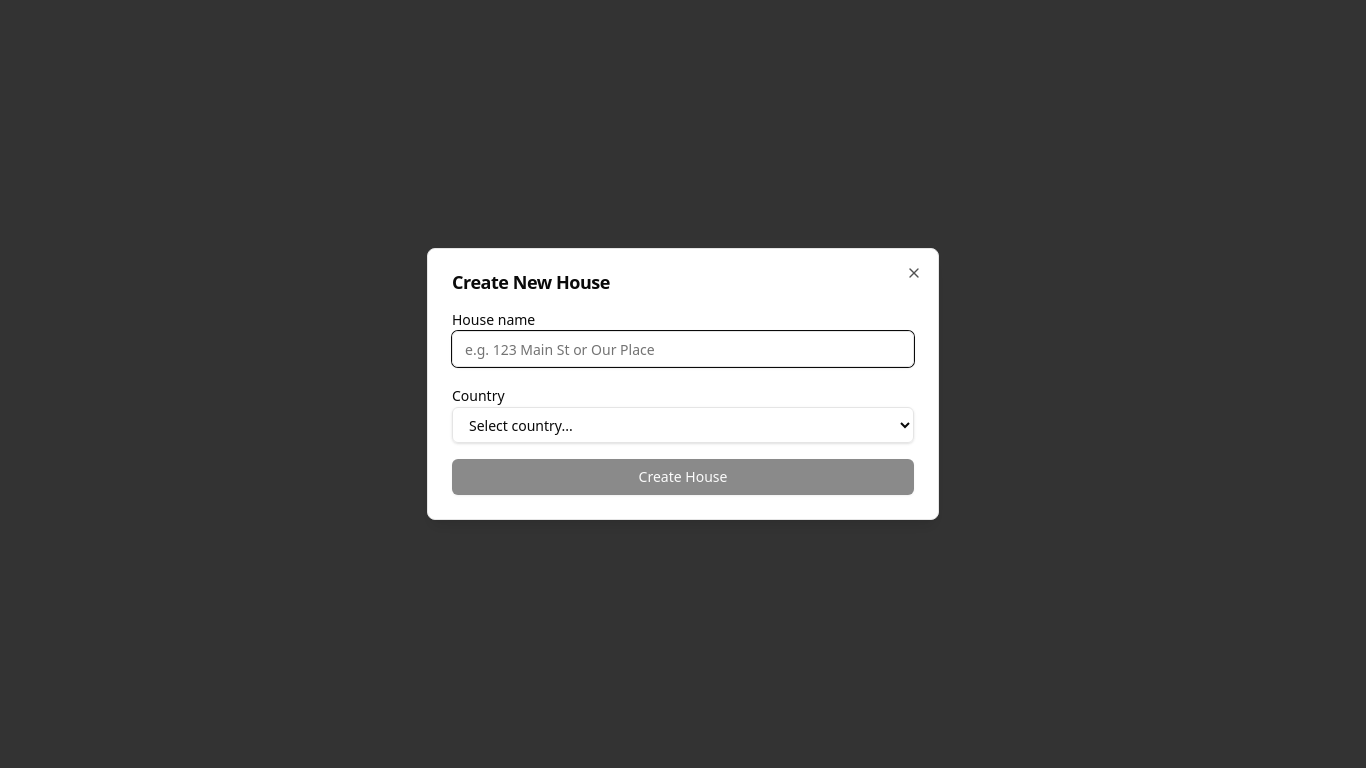
CreateHouseDialog › shows country hint when only name is filled
In the field labelled "House name": (683, 349) [452,331,914,367], type "New House"
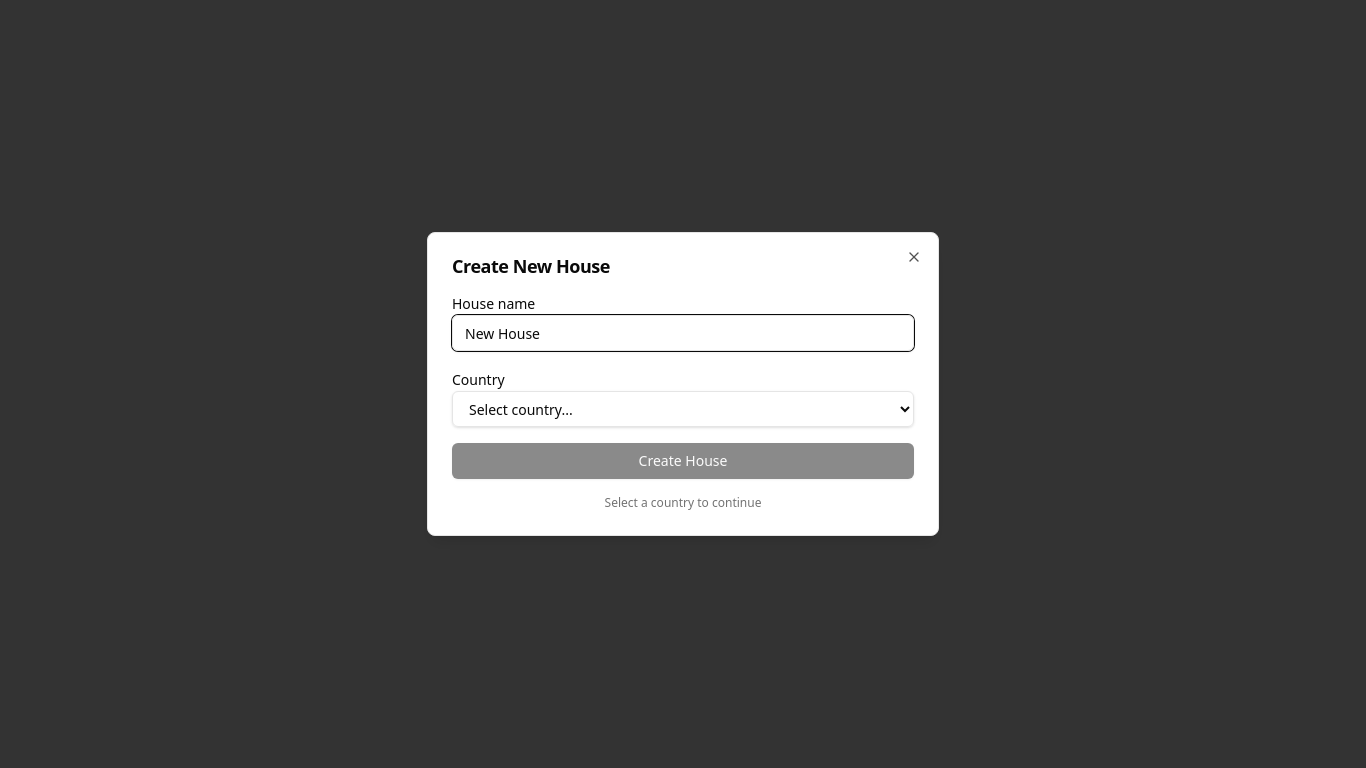
Check: the text "Select a country to continue" is shown, box [605,494,761,511]
